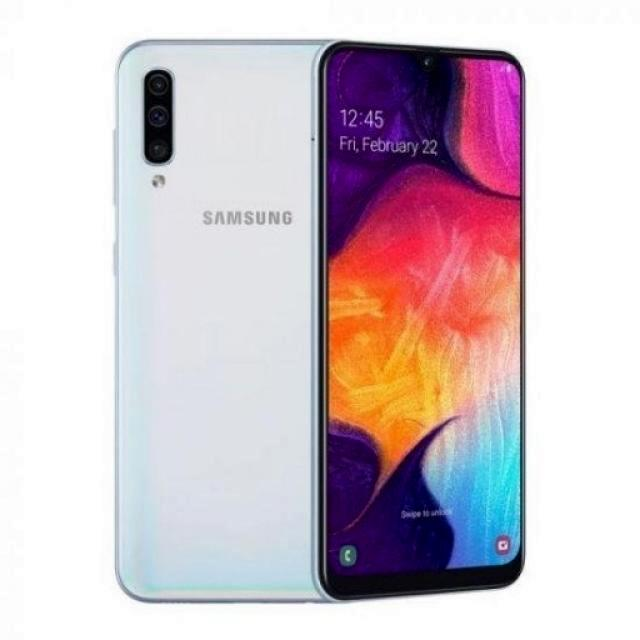lens_back: (144, 136, 172, 163), (146, 71, 171, 97), (145, 104, 171, 127)
phone: (111, 34, 325, 612), (317, 44, 533, 605)
